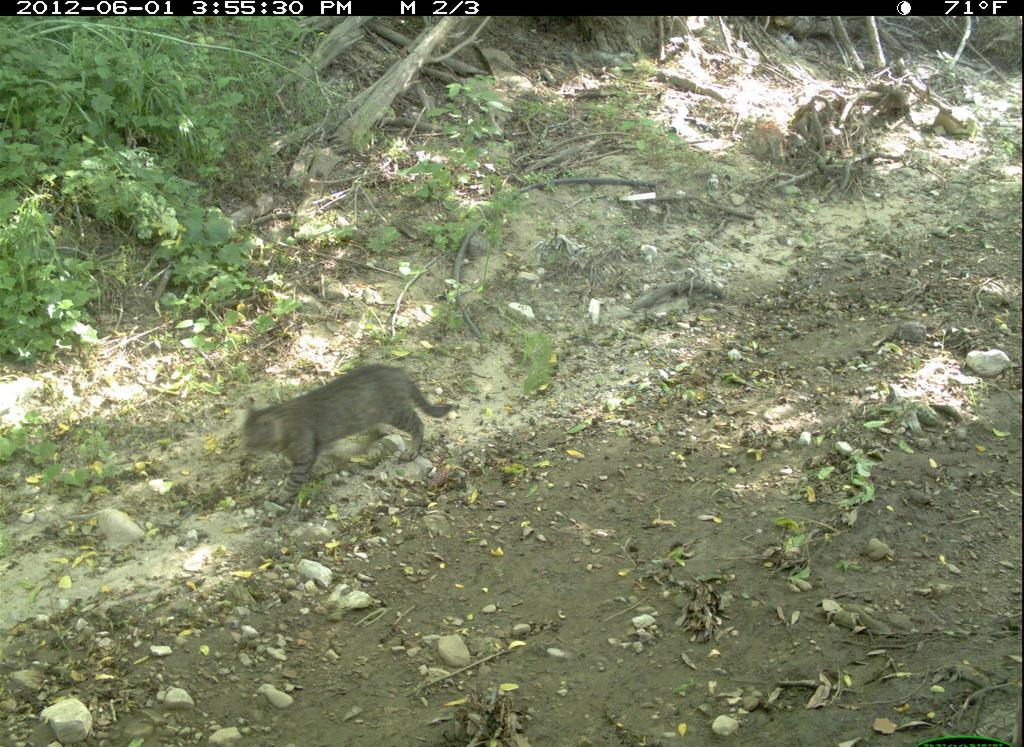cat: (232, 358, 466, 518)
